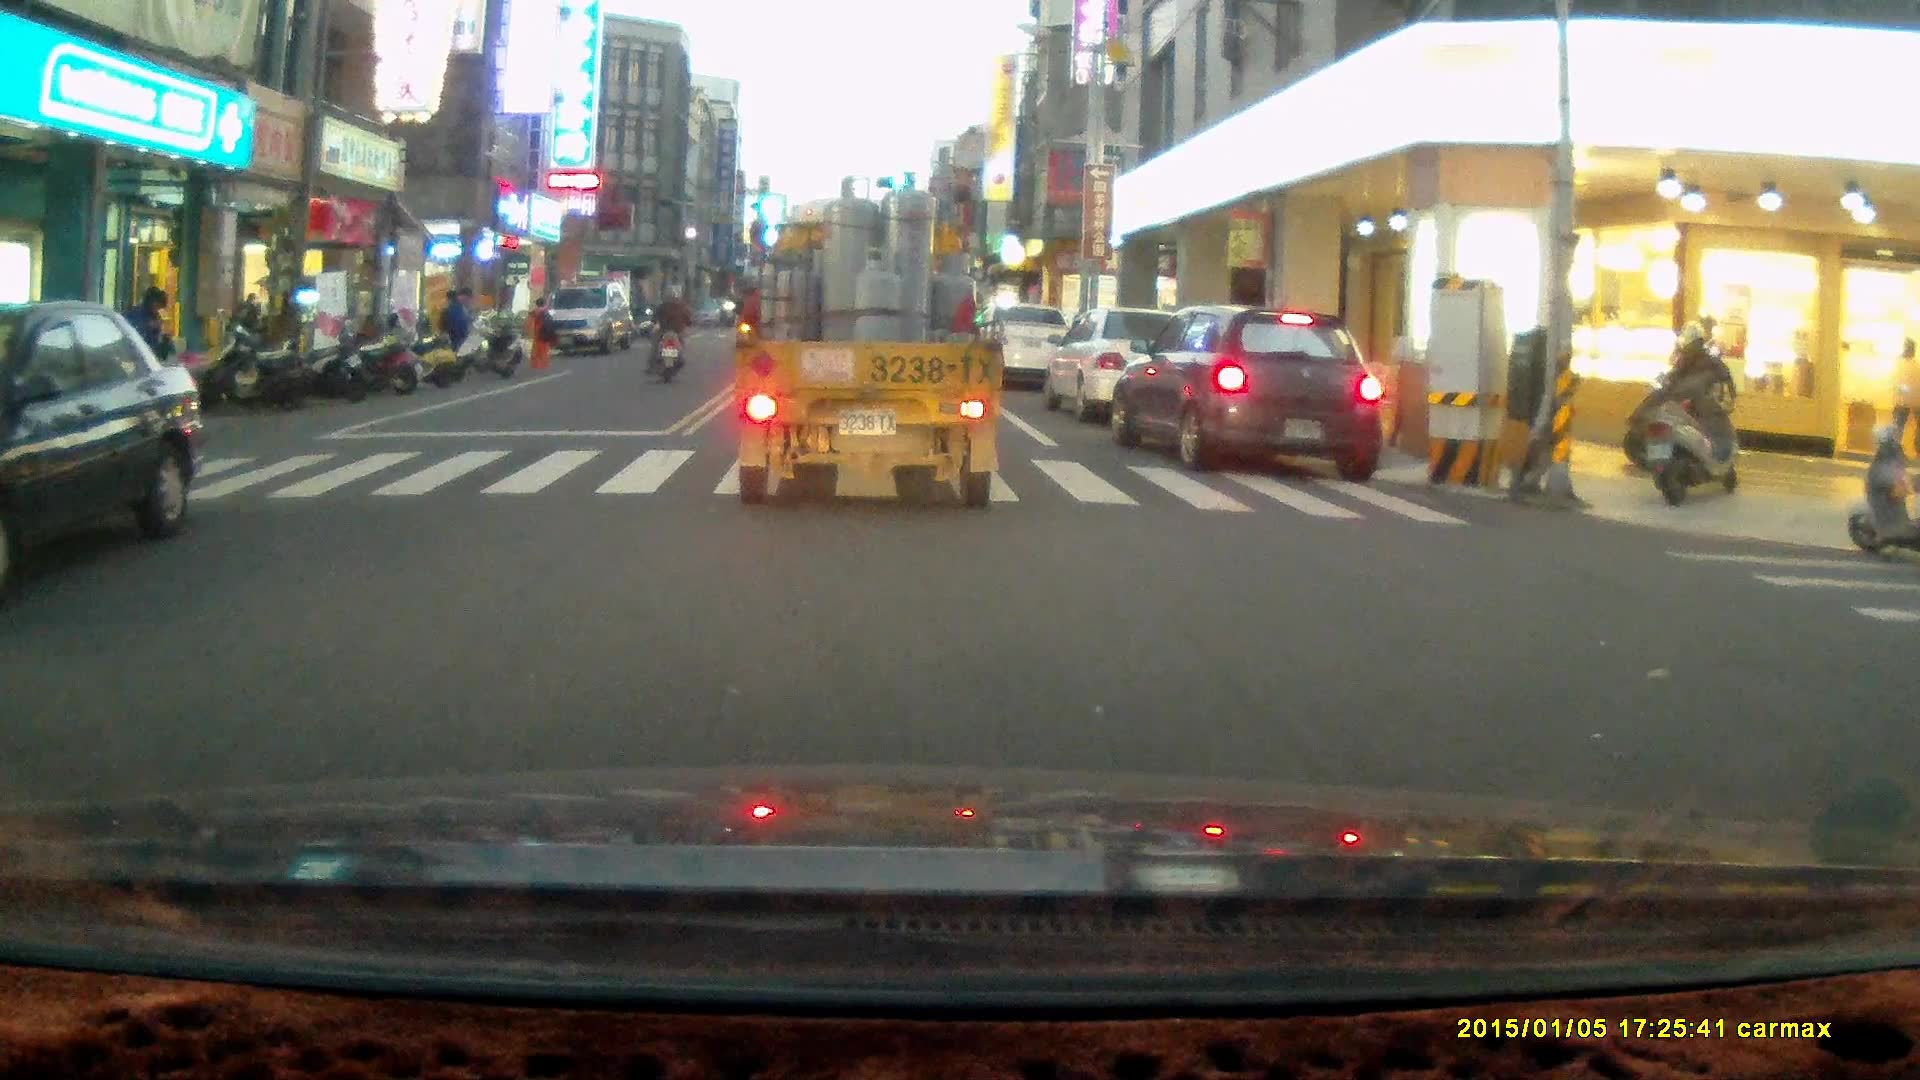pedestrian: (114, 286, 173, 407), (437, 283, 473, 371), (524, 294, 560, 369)
rider: (1620, 316, 1734, 473), (643, 278, 691, 382)
vehicle: (734, 168, 1003, 513), (1, 301, 204, 595), (1112, 305, 1383, 481), (1052, 306, 1222, 424), (975, 304, 1080, 394), (539, 283, 637, 357)
